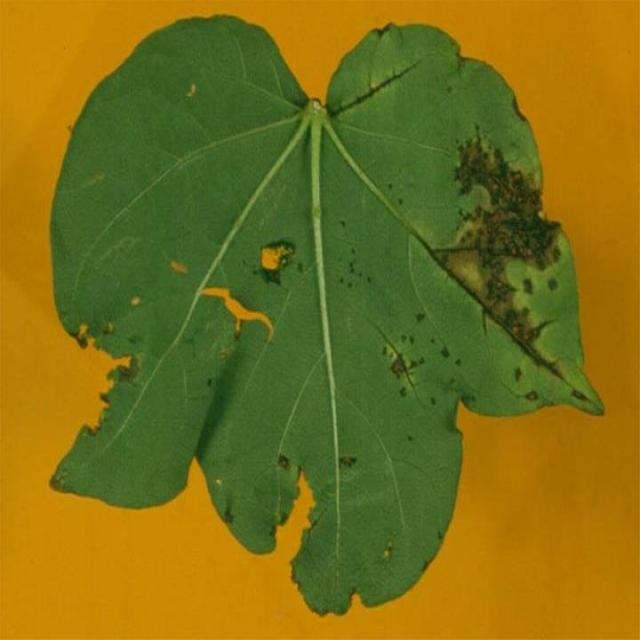Bacterial Blight: (452, 115, 556, 311)
